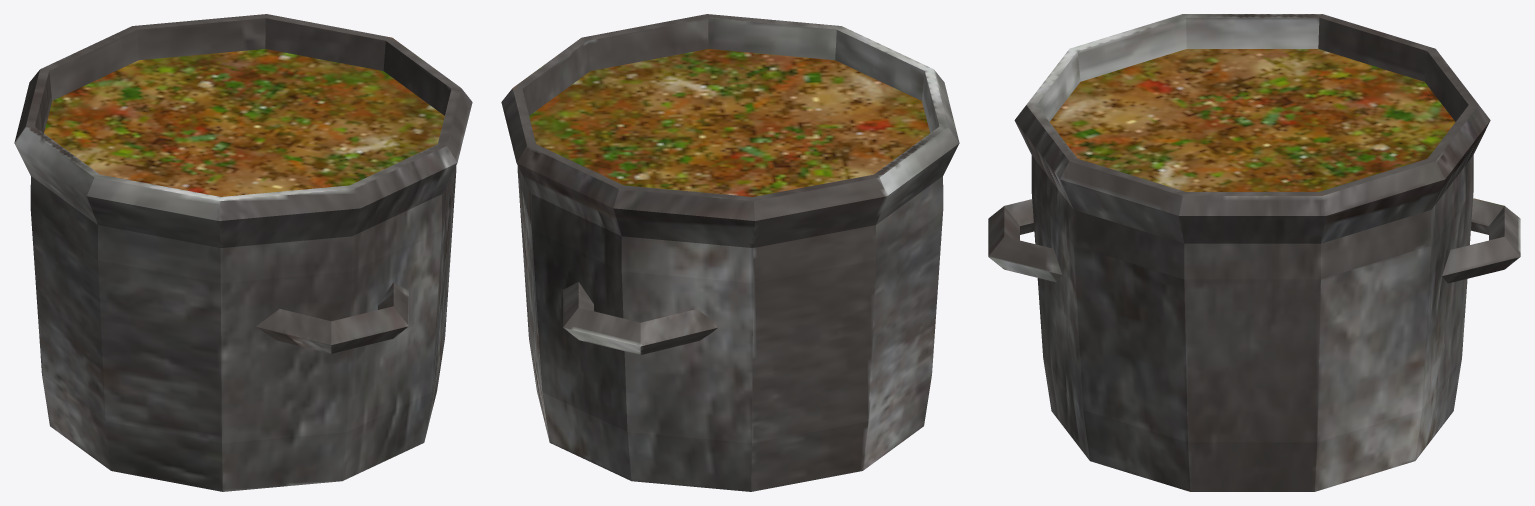
File: Pot.fbx
The picture shows the model from 3 angles, left to right: view 1: azimuth 30°, elevation 25°; view 2: azimuth 150°, elevation 25°; view 3: azimuth 270°, elevation 25°; orthographic projection.
Parts seen in each view (by area): view 1: Pot; view 2: Pot; view 3: Pot.
Part boxes in pixels (box(x1,y1,x2,y2)): Pot: box(14, 14, 472, 491); Pot: box(501, 14, 959, 491); Pot: box(988, 14, 1520, 491).
Size of the model in its own units: 193 by 144 by 227.
2 materials, 2 textured.
